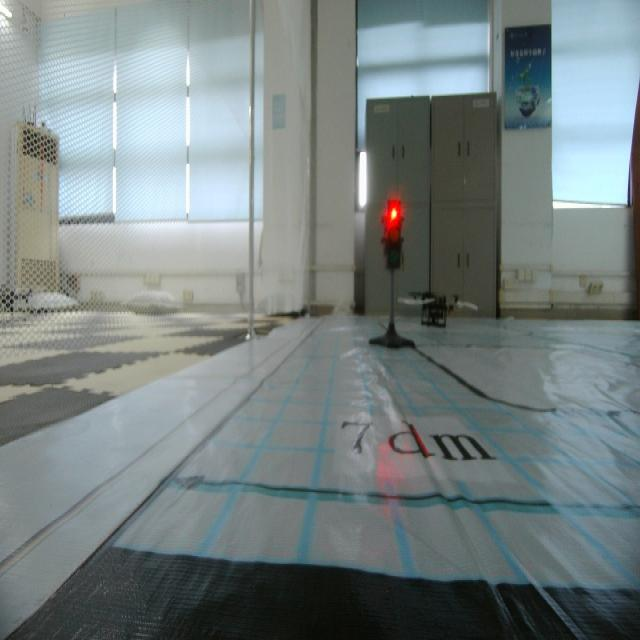red: (379, 195, 405, 282)
